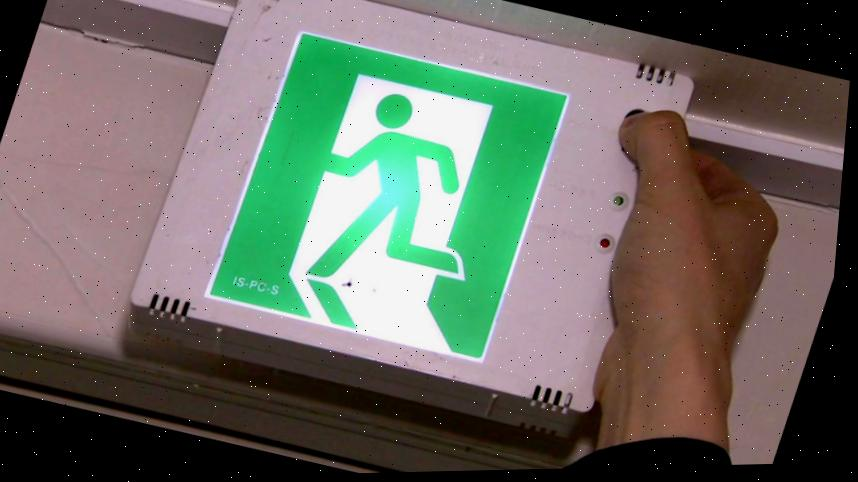emergency_exit: (124, 2, 696, 442), (203, 30, 572, 365)
